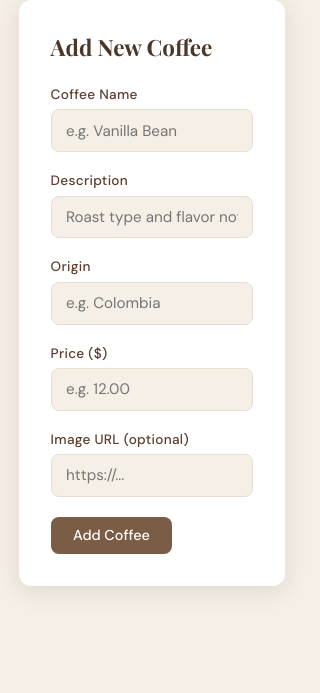
Test: AddCoffeeForm › shows validation errors when submitting empty form
The width and height of the screenshot is (320, 693).
Click the button "Add Coffee" at (111, 536), box x1=51 y1=517 x2=172 y2=554
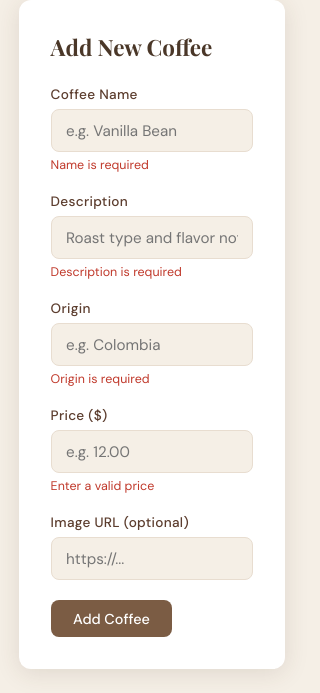
Expected: the text "Name is required" is shown, x1=51 y1=157 x2=149 y2=173
Expected: the text "Origin is required" is shown, x1=51 y1=371 x2=150 y2=387
Expected: the text "Enter a valid price" is shown, x1=51 y1=478 x2=154 y2=494
